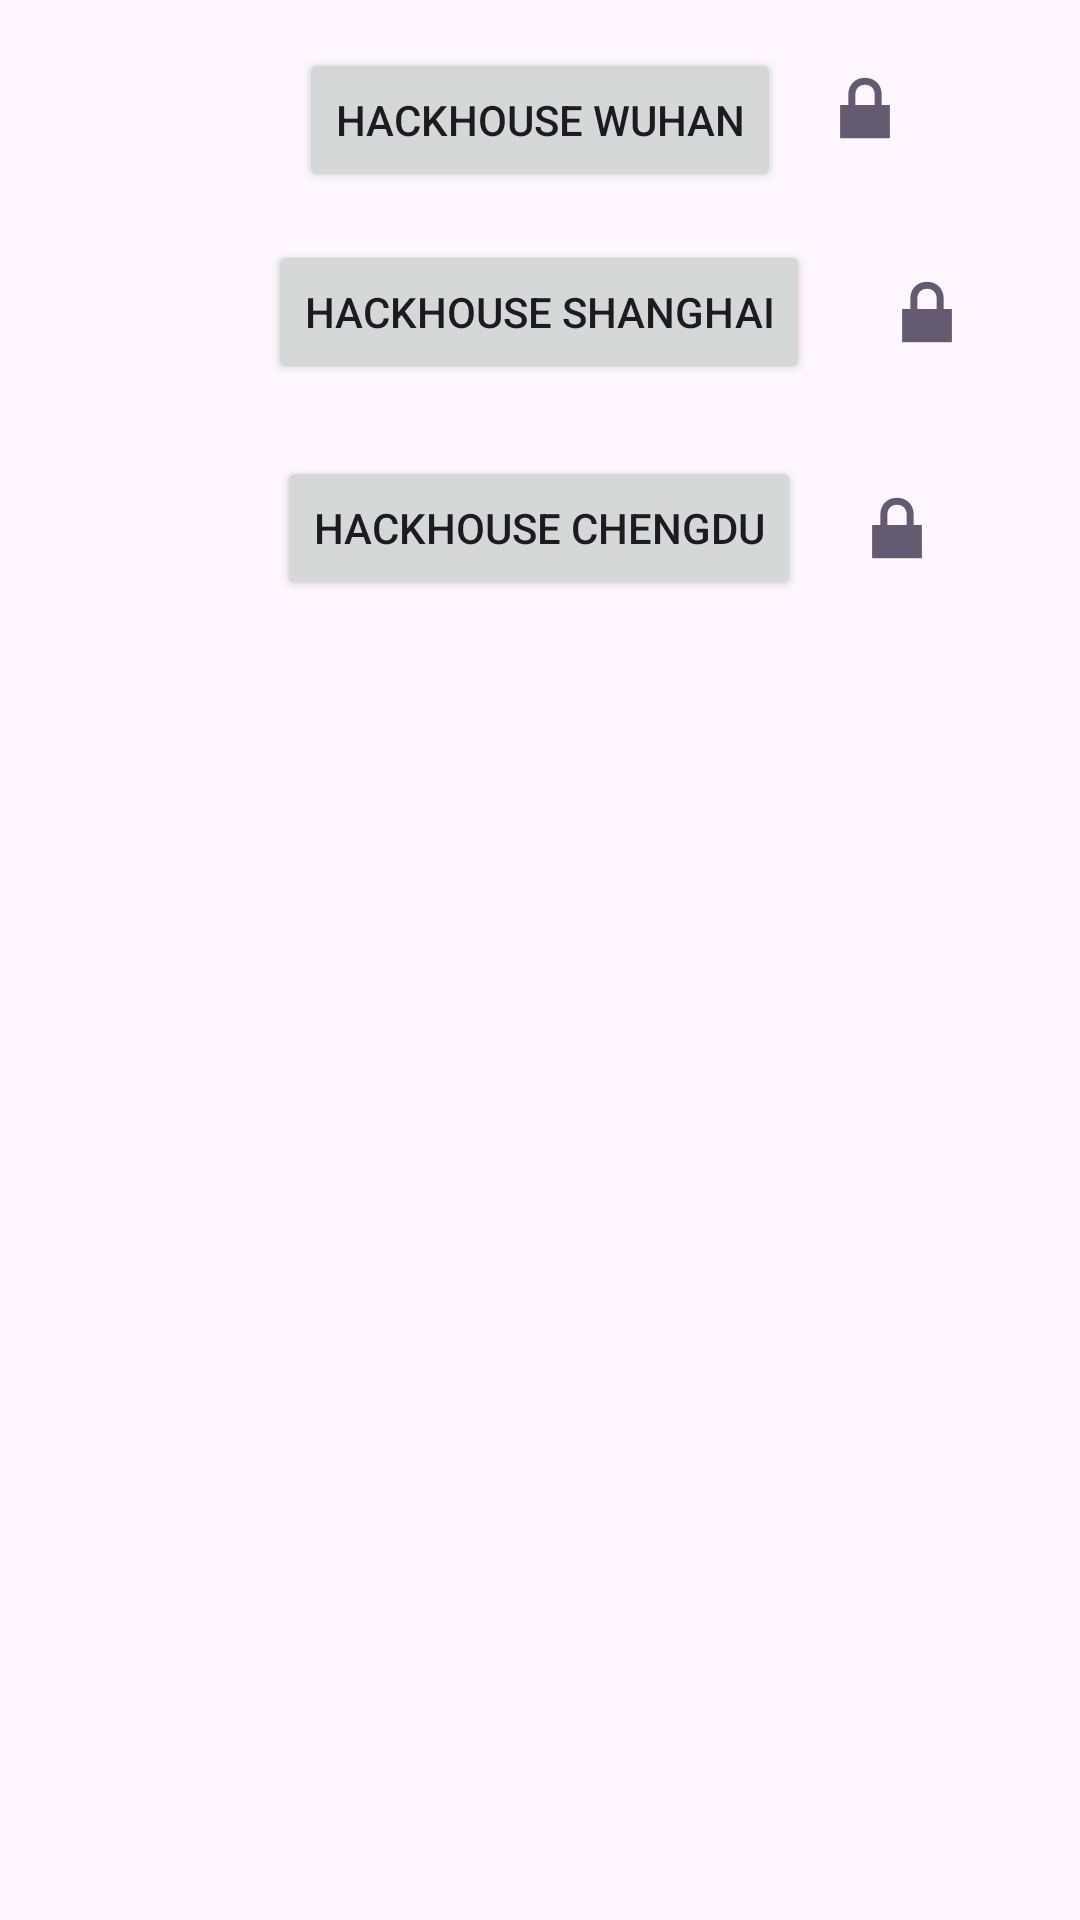

Locate icon controls on the screen. Image size 1080×1920, boxes as (x1, y1, x2, y2).
lock: (840, 77, 890, 139), (902, 281, 952, 343), (872, 497, 922, 559)
